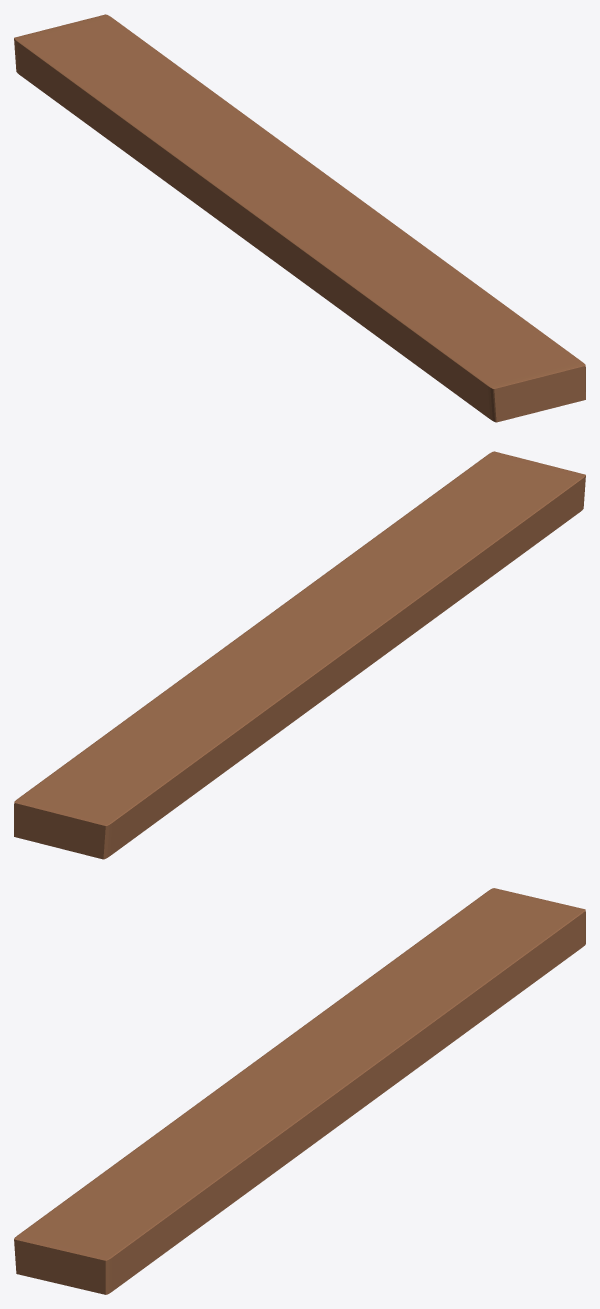
Rendered from koprukalas.fbx.
3 renders of one model, top to bottom at view 1: azimuth 30°, elevation 25°; view 2: azimuth 150°, elevation 25°; view 3: azimuth 330°, elevation 25°, orthographic.
Parts seen in each view (by area): view 1: koprutekkalas; view 2: koprutekkalas; view 3: koprutekkalas.
Boxes of the visible parts, <box> form: koprutekkalas: <box>14,14,585,422</box>; koprutekkalas: <box>14,451,585,859</box>; koprutekkalas: <box>14,888,585,1294</box>.
Size of the model in its own units: 43.84 by 15.75 by 385.
